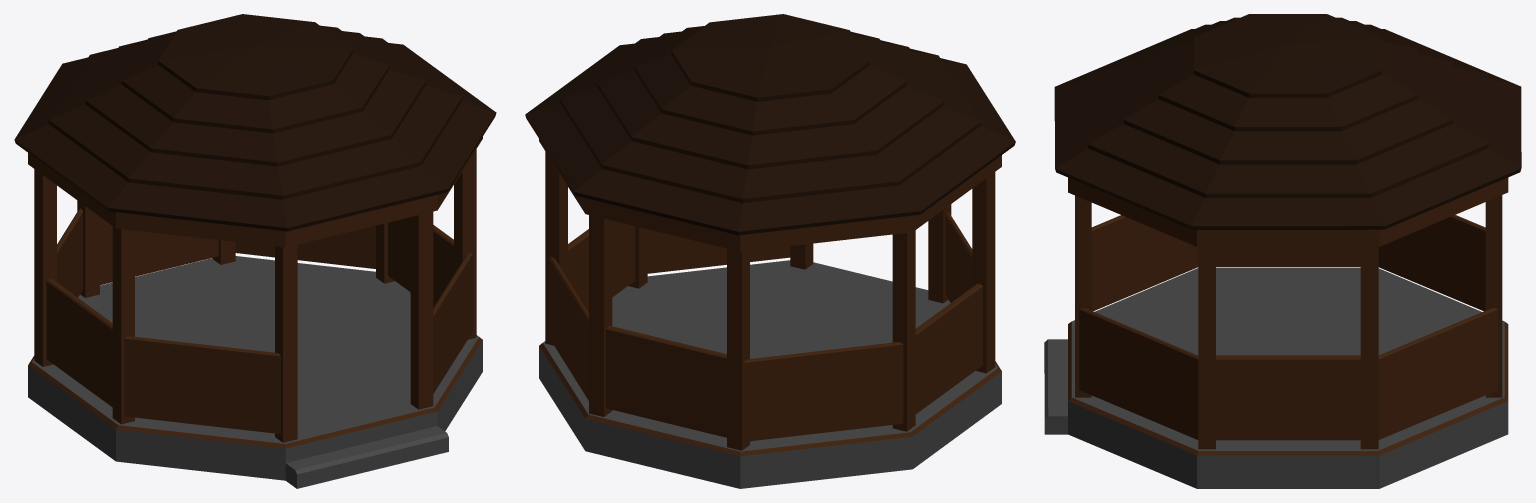
File: Gazebo_FBX.fbx
3 views of the same model, side by side, from view 1: azimuth 30°, elevation 25°; view 2: azimuth 150°, elevation 25°; view 3: azimuth 270°, elevation 25° (orthographic). The views are drawn at different scales.
Parts seen in each view (by area): view 1: Gazebo_Top/Bottom, Gazebo_Middle; view 2: Gazebo_Top/Bottom, Gazebo_Middle; view 3: Gazebo_Top/Bottom, Gazebo_Middle.
Boxes of the visible parts, x1=… form: Gazebo_Top/Bottom: x1=14, y1=14, x2=496, y2=488; Gazebo_Middle: x1=34, y1=149, x2=476, y2=442; Gazebo_Top/Bottom: x1=525, y1=14, x2=1015, y2=488; Gazebo_Middle: x1=545, y1=151, x2=995, y2=450; Gazebo_Top/Bottom: x1=1044, y1=14, x2=1521, y2=488; Gazebo_Middle: x1=1075, y1=195, x2=1502, y2=449.
Bounding box in the file's own units: 596 × 495 × 609.
